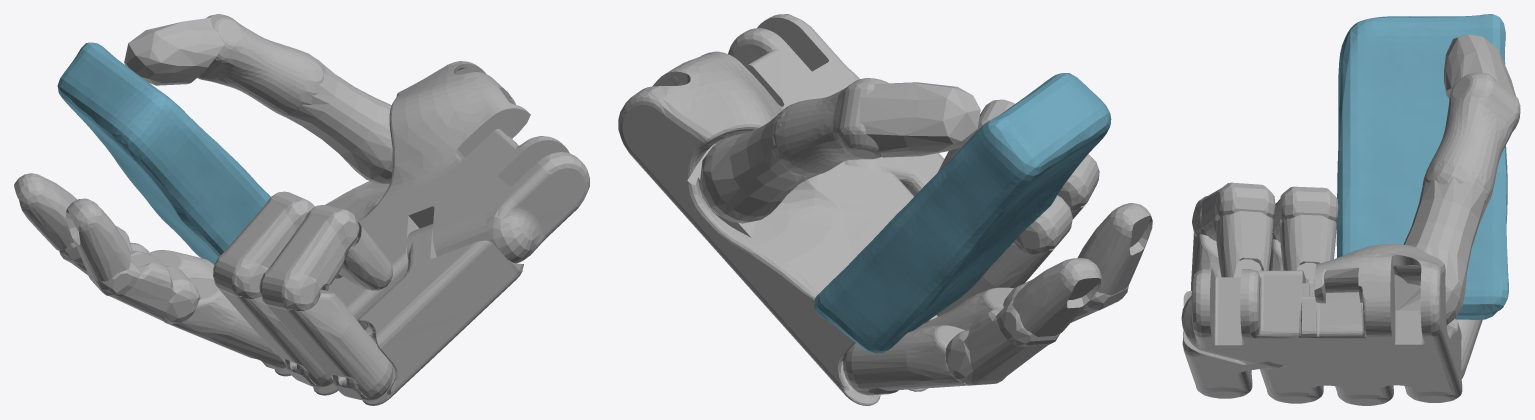
File: ugg_3.glb
The picture shows the model from 3 angles, left to right: view 1: azimuth 30°, elevation 25°; view 2: azimuth 150°, elevation 25°; view 3: azimuth 270°, elevation 25°; orthographic projection. The views are drawn at different scales.
Visible parts, largest first — view 1: world; view 2: world; view 3: world.
Boxes of the visible parts, <box> form: world: <box>14,14,589,405</box>; world: <box>618,14,1152,405</box>; world: <box>1181,14,1520,405</box>.
Bounding box in the file's own units: 1.12 × 0.7683 × 0.7078.
